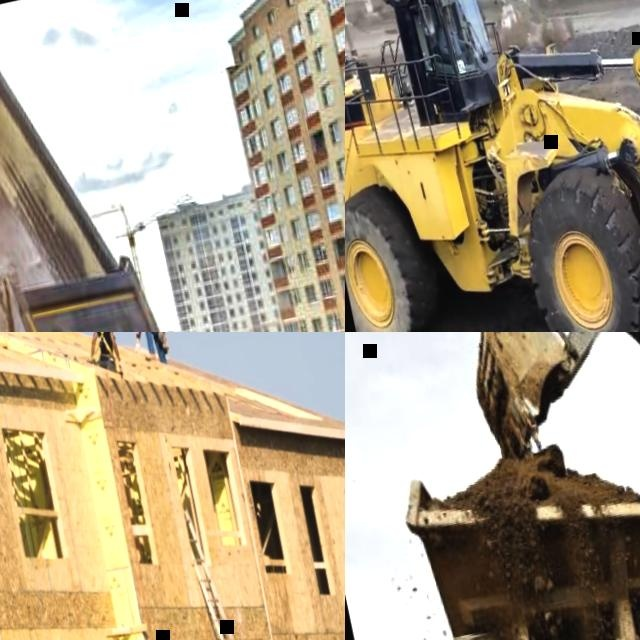NO-Safety Vest: (441, 23, 462, 57), (94, 332, 115, 358)
Person: (80, 332, 124, 378), (435, 9, 473, 59), (122, 332, 171, 368)
machinery: (345, 0, 640, 332), (0, 0, 200, 332), (446, 332, 640, 640), (377, 423, 640, 640)
